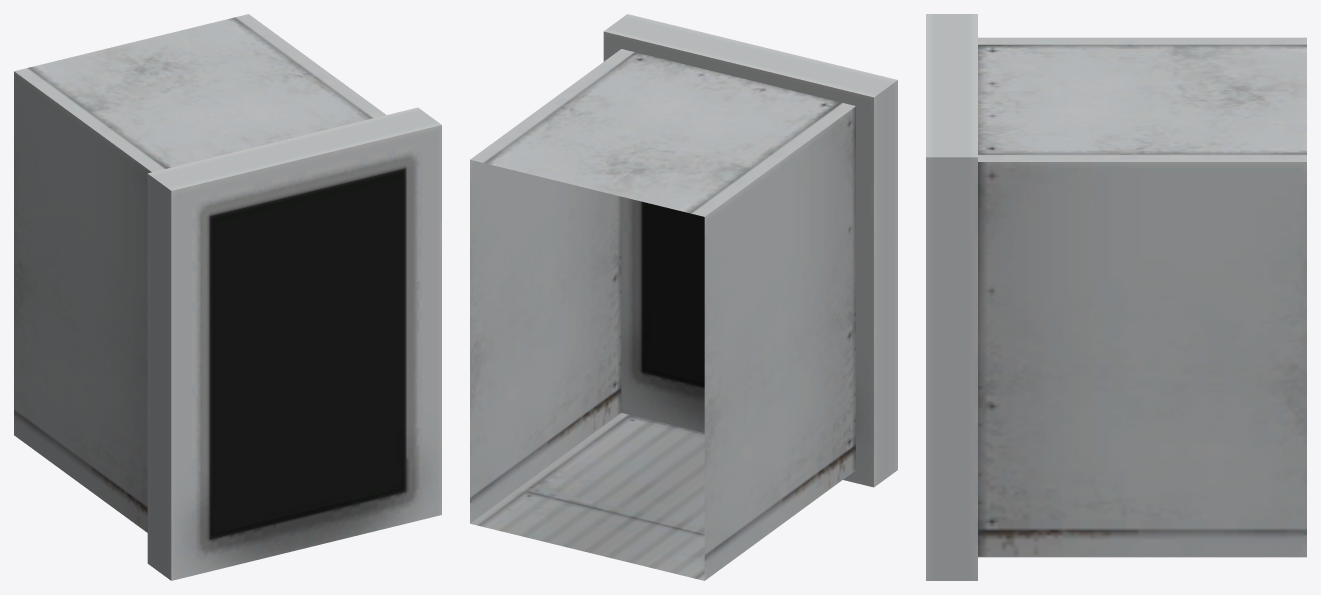
The model's file is jw_joint_1a.gltf.
3 views of the same model, side by side, from view 1: azimuth 30°, elevation 25°; view 2: azimuth 150°, elevation 25°; view 3: azimuth 270°, elevation 25° (orthographic). The views are drawn at different scales.
Parts seen in each view (by area): view 1: jw_joint_1a; view 2: jw_joint_1a; view 3: jw_joint_1a.
Boxes of the visible parts, <box> form: jw_joint_1a: <box>14,14,441,580</box>; jw_joint_1a: <box>470,14,897,580</box>; jw_joint_1a: <box>926,14,1306,580</box>.
Bounding box in the file's own units: 1.96 × 2.7 × 2.2.
